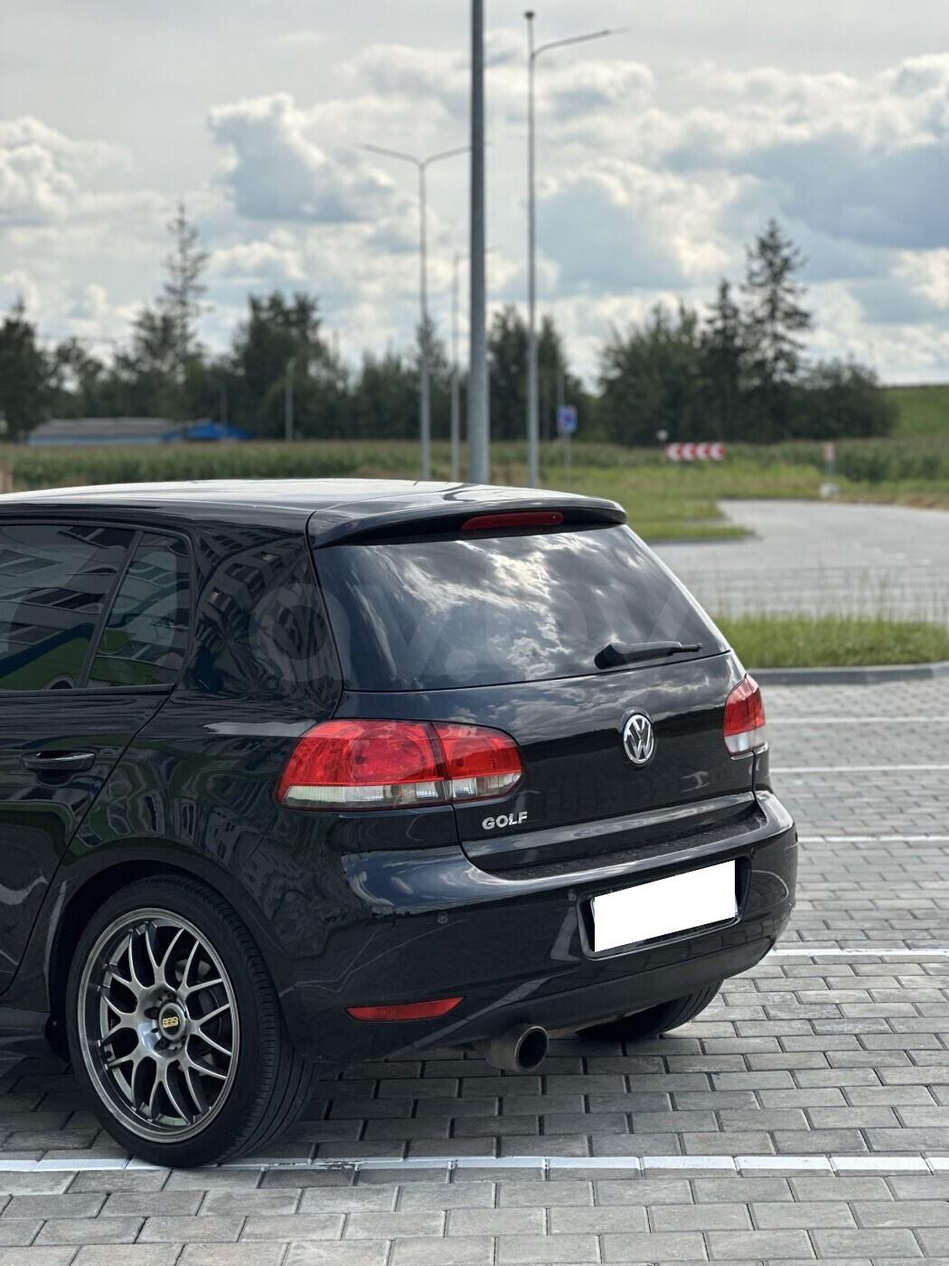Golf_2008-2013: (0, 457, 813, 1163)
